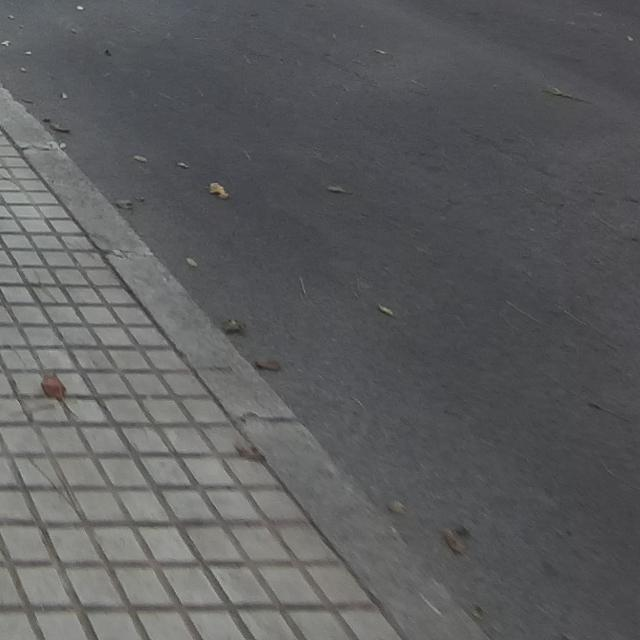calcada_quebrada: (21, 451, 93, 524)
